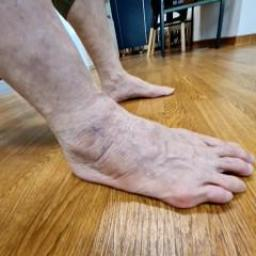Lateral View -Right Foot-: (18, 63, 255, 224)
